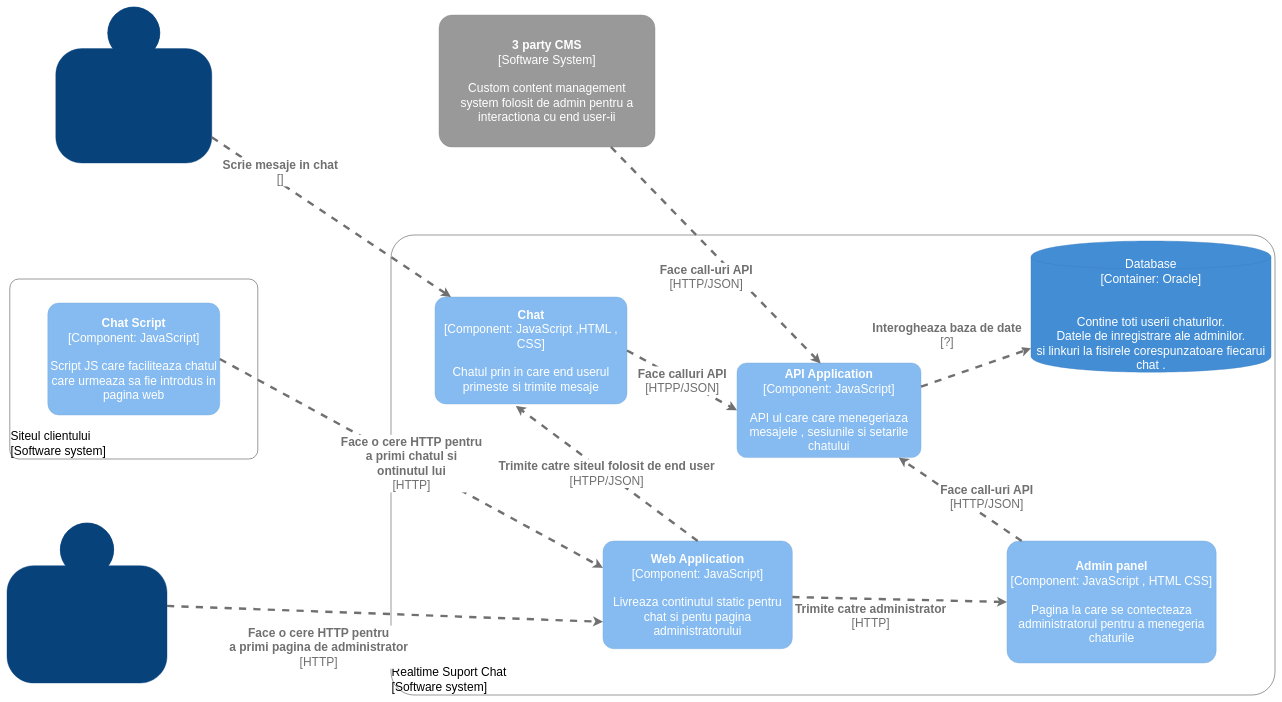
Image size: 1282x702. Some labels were removed from this diagram. Here are the shapes that lost their labels. From the top down, the centre of each, then its label:
the point at 133,85: End user [Person] Persoana care foloseste pop-up chatul implementat de client
the point at 87,603: Admin [Person] Persoana care interactioneaza cu mai multe instante de chat
